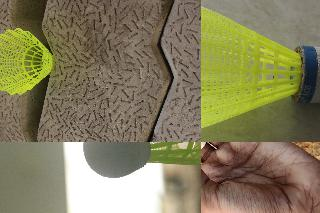shuttlecock: (201, 0, 319, 140), (83, 142, 200, 178), (0, 27, 53, 95)
